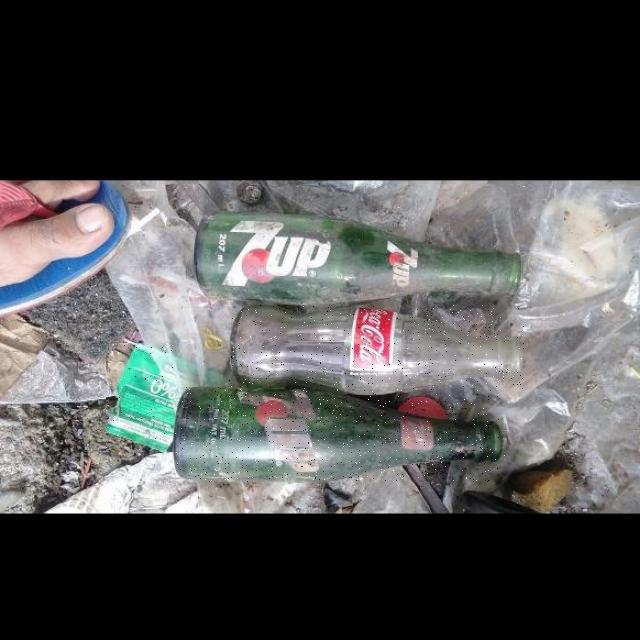glass: (173, 387, 505, 482), (195, 210, 522, 306), (229, 305, 524, 393)
wrapper: (107, 344, 174, 451)
